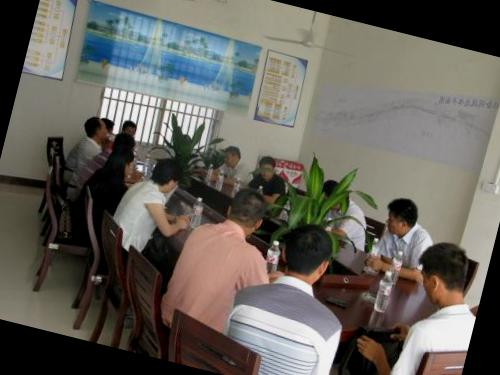no_helmet: (408, 232, 478, 317), (271, 216, 342, 290), (224, 180, 276, 234), (378, 191, 424, 243), (145, 152, 186, 196), (102, 142, 139, 180), (315, 177, 351, 211), (78, 111, 114, 145), (252, 152, 282, 183), (218, 142, 247, 172), (109, 128, 138, 156), (119, 116, 139, 140)
